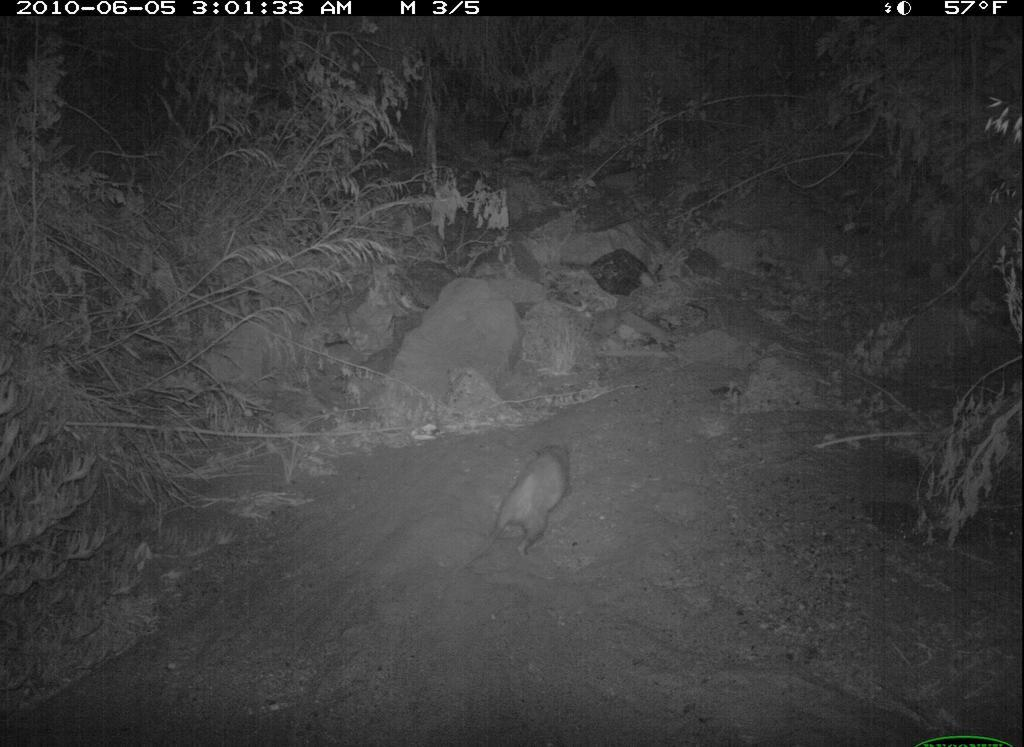opossum: (460, 429, 579, 571)
